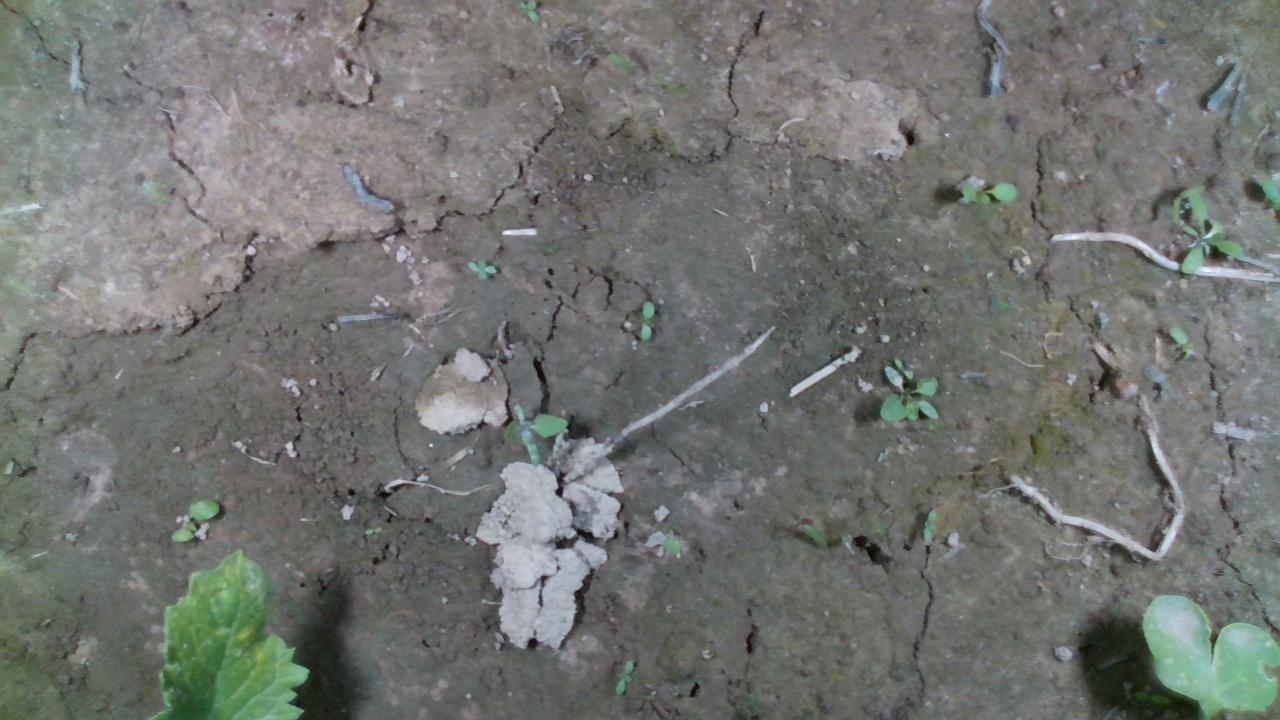weed: (168, 497, 221, 541), (956, 179, 1018, 204), (463, 257, 499, 280), (920, 504, 939, 544), (614, 658, 634, 693), (637, 298, 654, 339)
